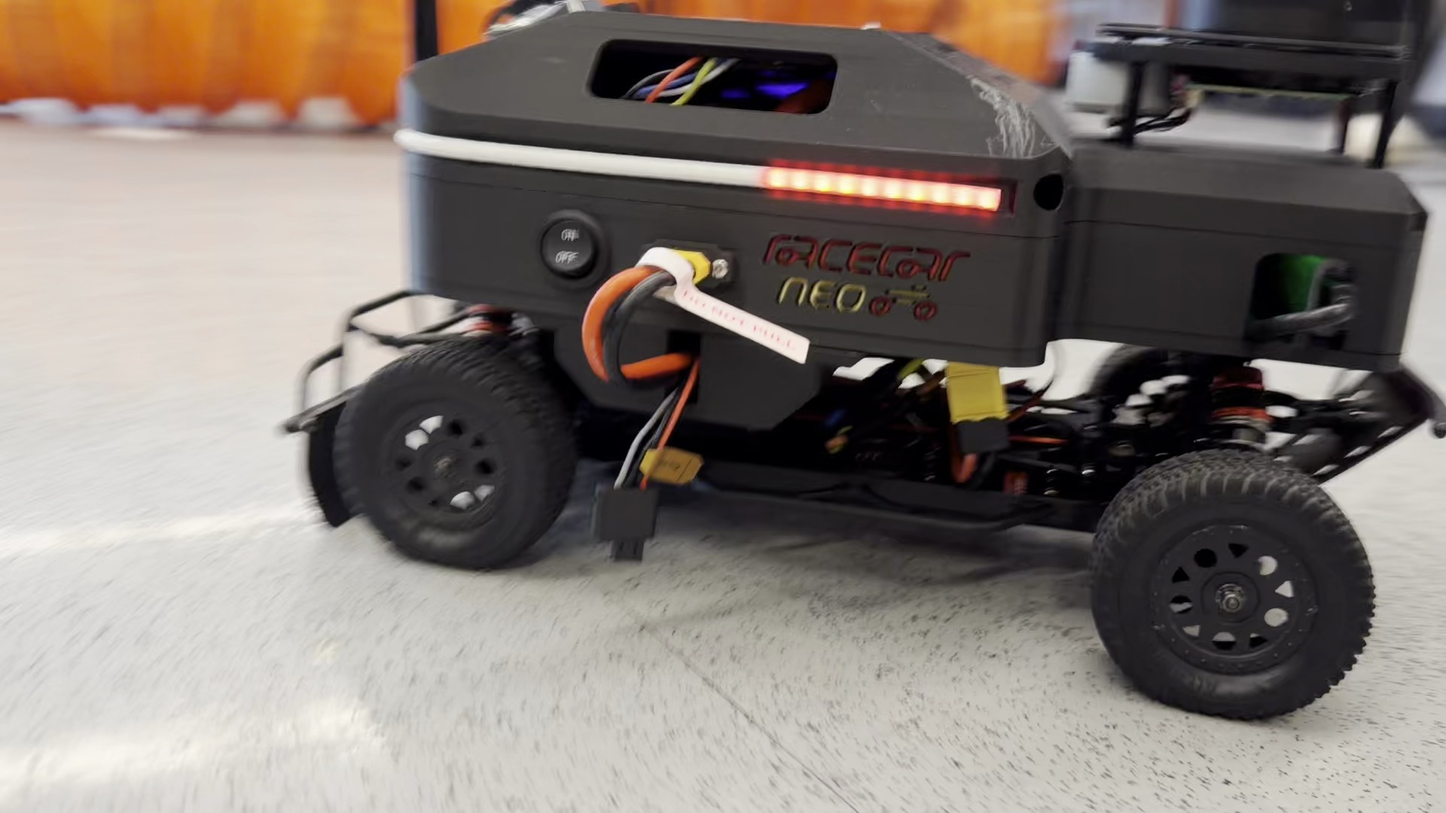racecar: (326, 0, 1443, 716)
